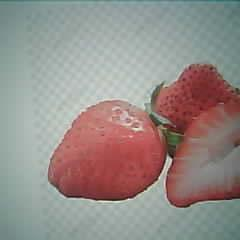straw-ripe: (45, 100, 166, 200)
